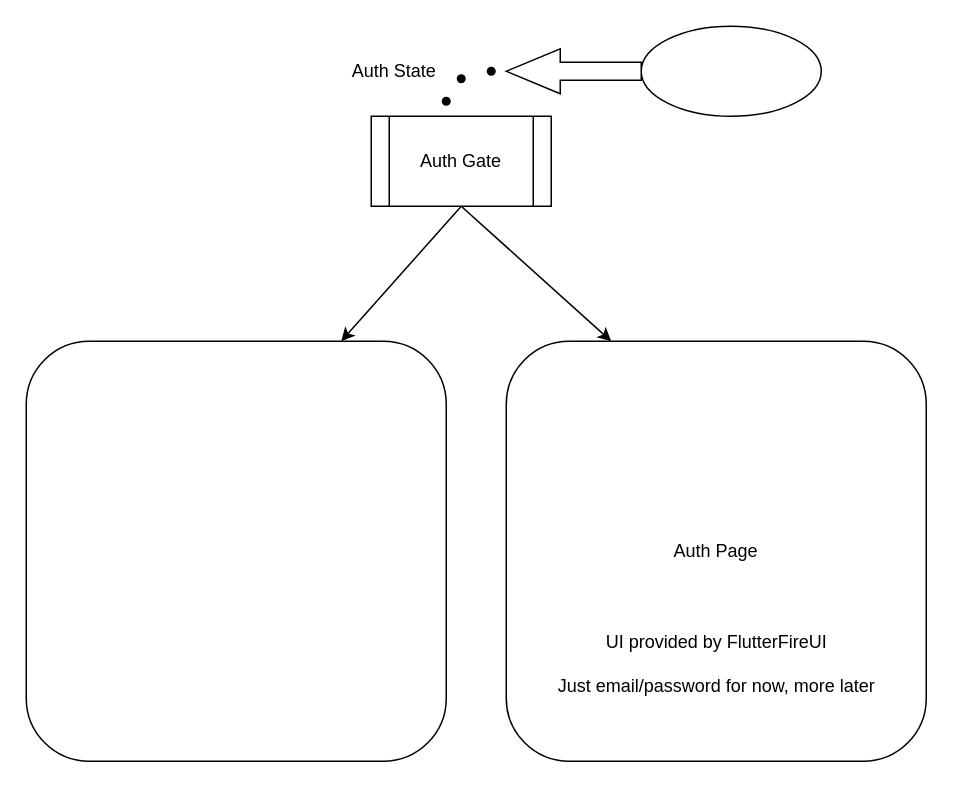
Image size: 953x788. Some labels were removed from this diagram. Here are the shapes that lost their labels. From the top down, the centre of each, then its label:
At (x=730, y=70): "Firebase Auth".
At (x=235, y=550): "Home Page".
